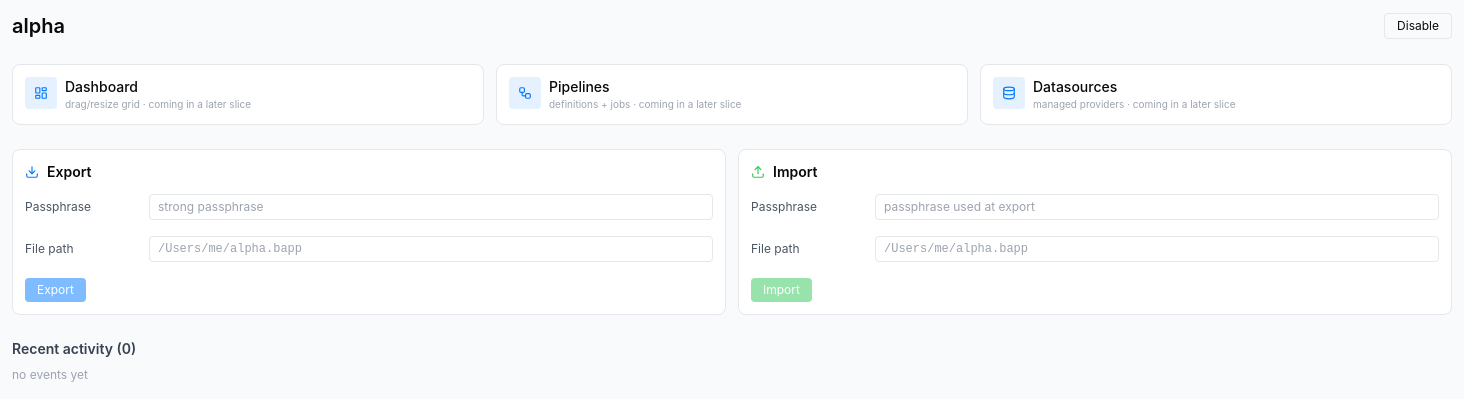
<ApplicationOverview> import/export › Import button surfaces an error message when the import fails
The width and height of the screenshot is (1464, 399).
Type "x" into the password field labelled "passphrase used at export" at (1157, 206), box [875,194,1439,220]
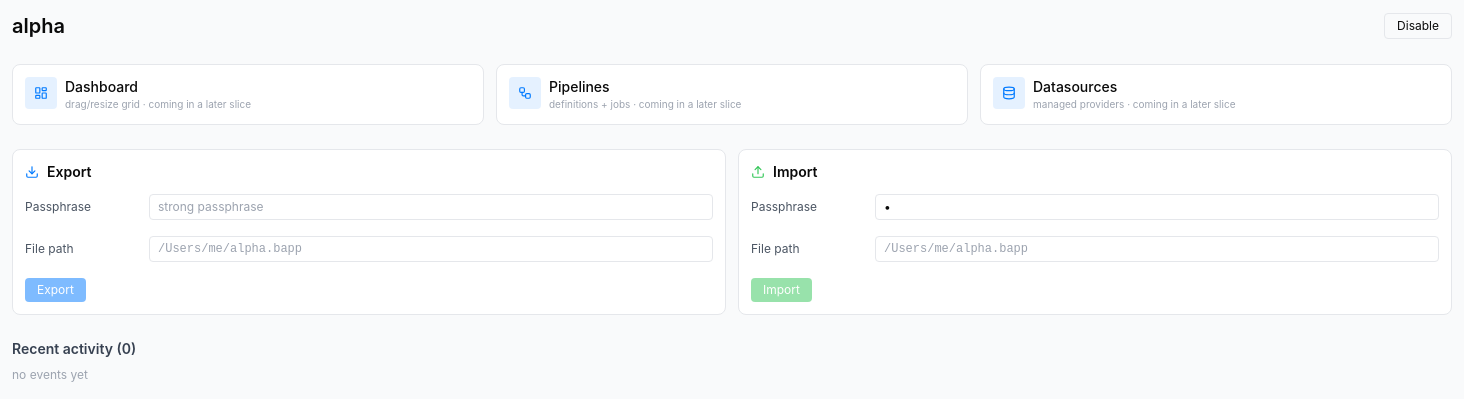
Type "/tmp/x.bapp" into the field named "file path" at (1157, 248), box [875,236,1439,262]
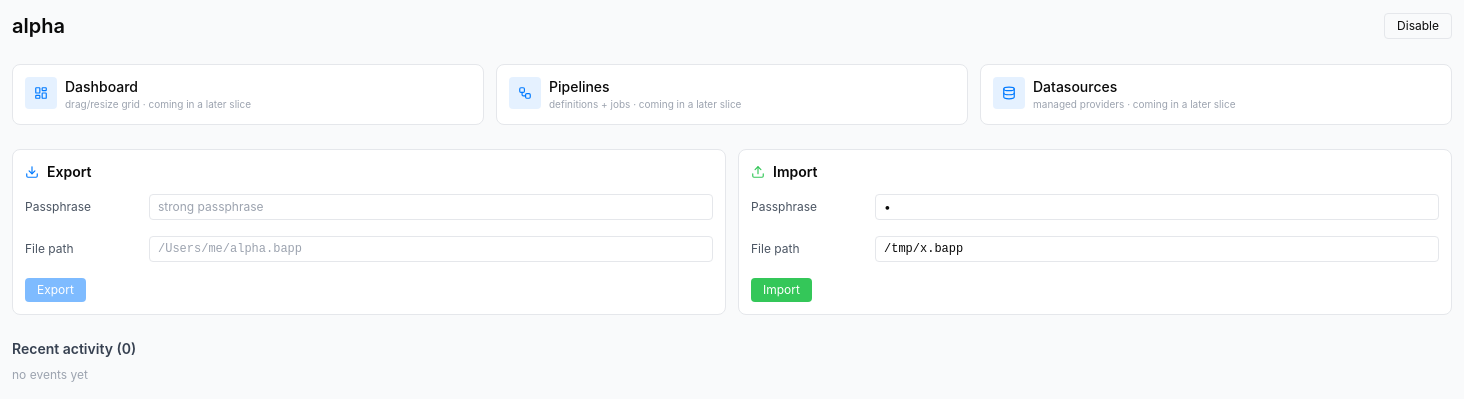
Click the button "Import" at (781, 290), box [751,278,812,302]
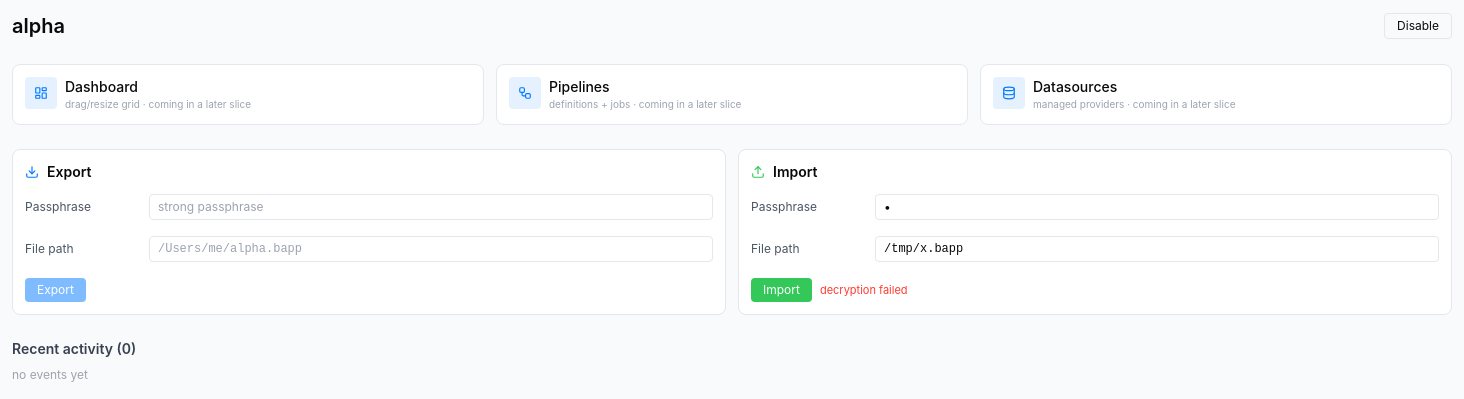
expect the text "decryption failed" is shown: met, box [820,282,908,298]
